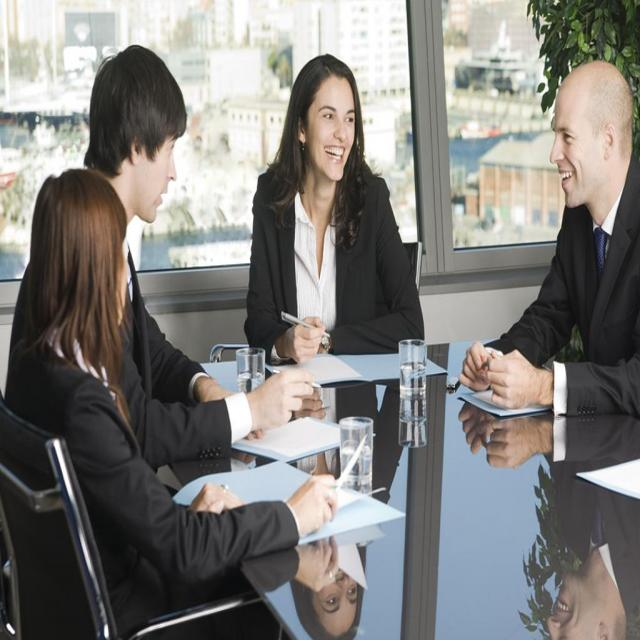nomask: (131, 111, 180, 223), (311, 523, 361, 630), (92, 212, 136, 328), (551, 97, 595, 210), (311, 75, 354, 171)
